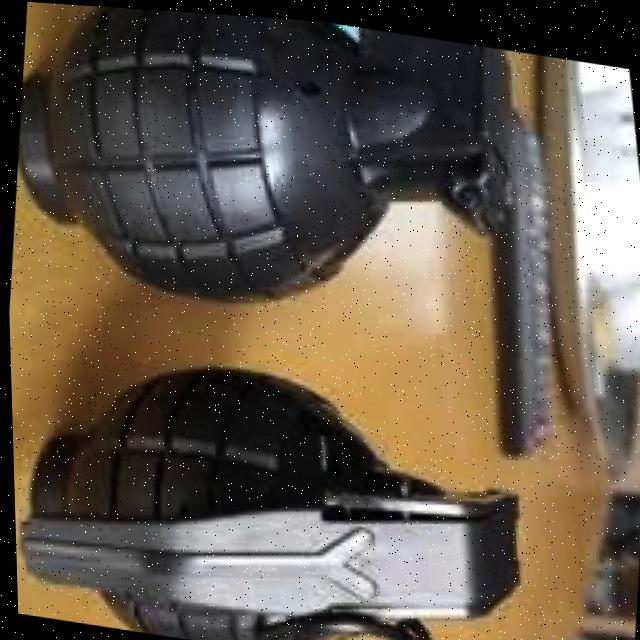grenade: (1, 0, 546, 371)
